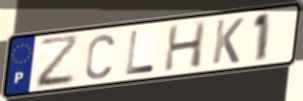1: (251, 11, 273, 64)
C: (83, 33, 117, 82)
H: (162, 19, 208, 73)
K: (210, 16, 246, 66)
L: (124, 29, 157, 77)
Z: (36, 33, 81, 90)
